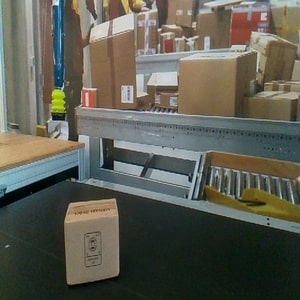box: (62, 197, 120, 286)
